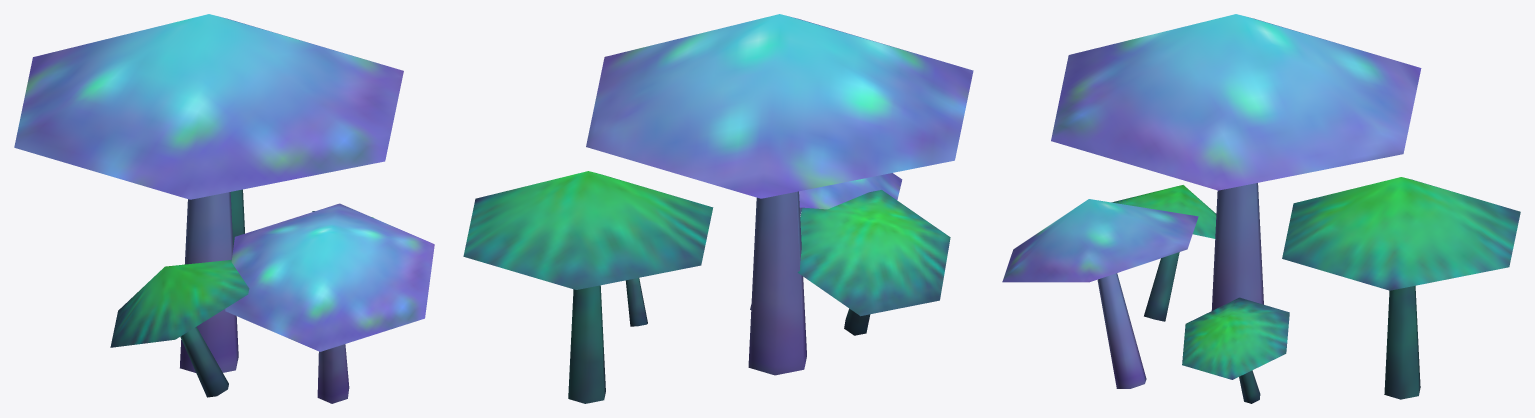
The model's file is guan_mu_017.FBX.
3 renders of one model, left to right at view 1: azimuth 30°, elevation 25°; view 2: azimuth 150°, elevation 25°; view 3: azimuth 270°, elevation 25°, orthographic. The views are drawn at different scales.
Visible parts, largest first — view 1: guan_mu_017_a, guan_mu_017_b; view 2: guan_mu_017_a, guan_mu_017_b; view 3: guan_mu_017_a, guan_mu_017_b.
Part boxes in pixels (bbox=[...]): guan_mu_017_a: bbox=[14, 14, 403, 397]; guan_mu_017_b: bbox=[225, 203, 434, 403]; guan_mu_017_a: bbox=[463, 14, 973, 403]; guan_mu_017_b: bbox=[750, 173, 902, 309]; guan_mu_017_a: bbox=[1051, 14, 1520, 403]; guan_mu_017_b: bbox=[1002, 199, 1198, 388].
Bounding box in the file's own units: 45.06 × 37.72 × 51.87.
1 material, 1 textured.
